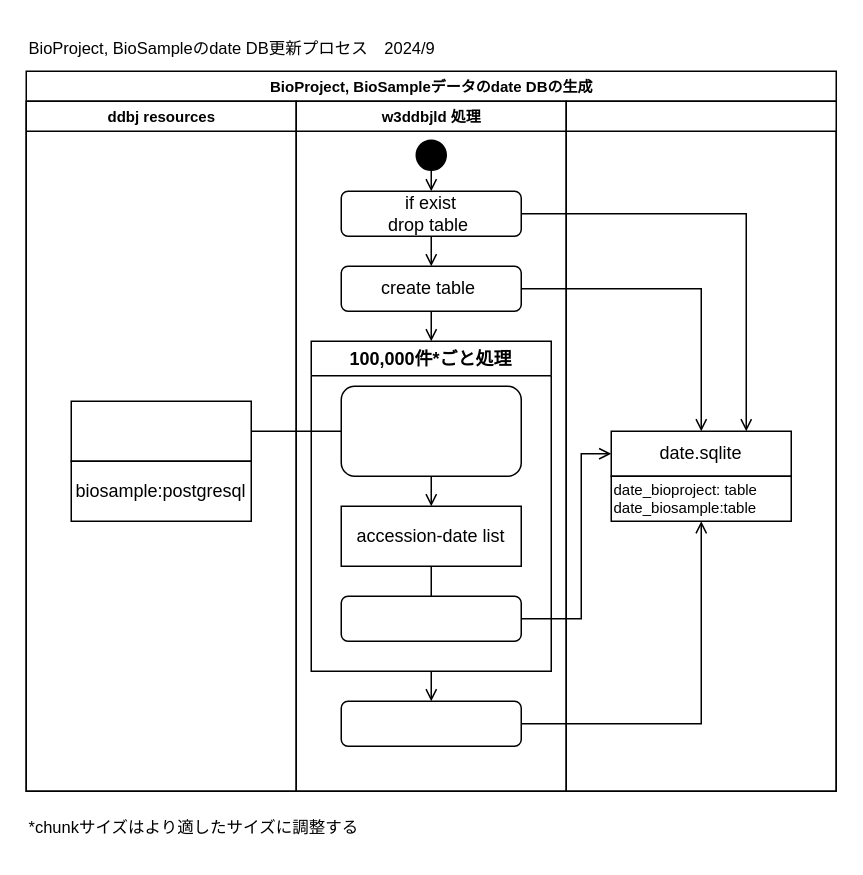
This 863x875 diagram has some shape labels left out. The box of each missing label's shape, as (x1, y1, x2, y2) in pixels:
bioproject: postgresql: (70, 400, 251, 461)
create index: (340, 700, 521, 746)
insert: (340, 595, 521, 641)
select accession, create_date, relase_date, modified_date: (340, 385, 521, 476)
w3ddbjld resource: (565, 100, 836, 791)
